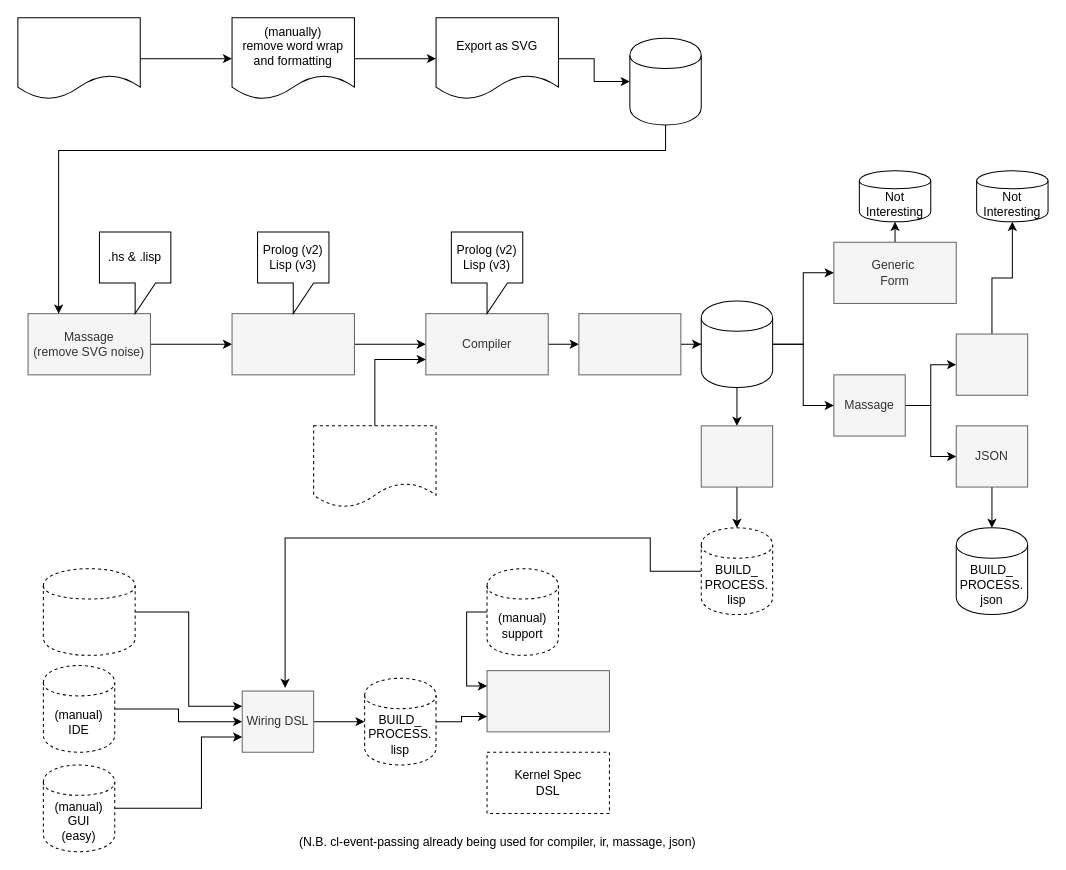
This 1066x870 diagram has some shape labels left out. Here are the shapes that lost their labels. From the top down, the centre of each, then its label:
[78,58]: Diagram (Draw.io) BUILD_PROCESS. DrawIO
[665,81]: BUILD_ PROCESS. SVG
[292,344]: Normalize ("scanner")
[629,344]: IR (Intermediate Representation)
[736,344]: BUILD_ PROCESS. ir
[991,364]: Generic
[374,466]: Elm editor
[736,456]: Emit Lisp
[88,611]: (manual) COMPILE_ COMPOSITE
[547,701]: Lisp kernel (cl-event-passing)
